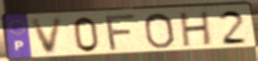0: (72, 15, 101, 54)
2: (217, 9, 249, 45)
F: (104, 13, 139, 53)
H: (178, 9, 213, 49)
O: (142, 12, 177, 50)
V: (30, 16, 66, 56)
